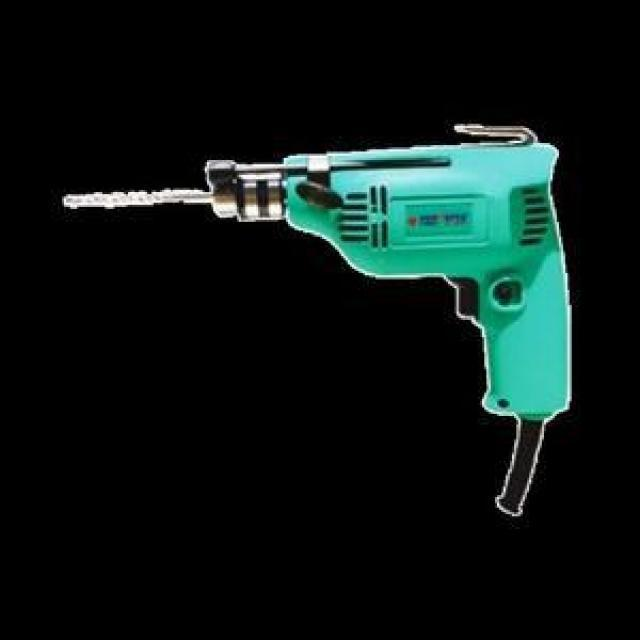drill: (62, 144, 570, 515)
